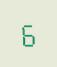six: (19, 20, 36, 46)
